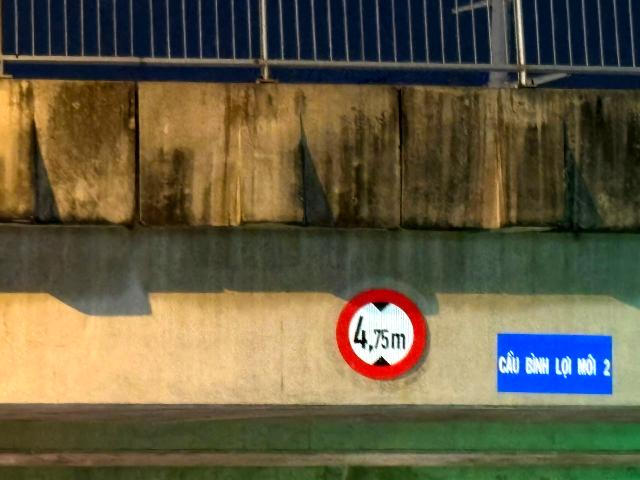han-che-chieu-cao: (338, 288, 426, 380)
